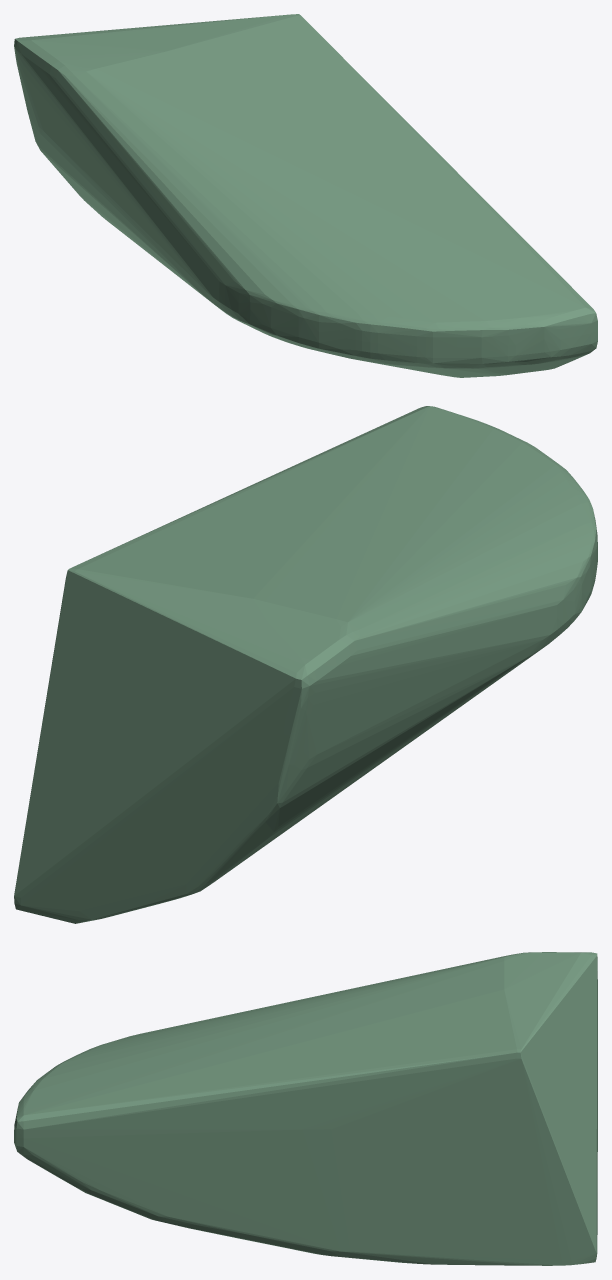
The model's file is left-shoulder-roll-0_part_0.obj.
3 views of the same model, one above another, from view 1: azimuth 30°, elevation 25°; view 2: azimuth 150°, elevation 25°; view 3: azimuth 270°, elevation 25° (orthographic). The views are drawn at different scales.
Bounding box in the file's own units: 0.0385 × 0.0386 × 0.0932.
